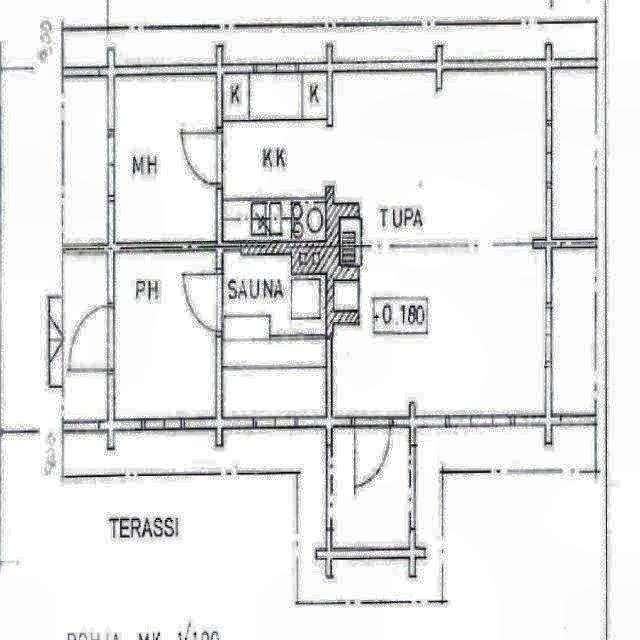room: (222, 253, 327, 420), (115, 251, 216, 419), (115, 75, 216, 242), (332, 427, 410, 549)
